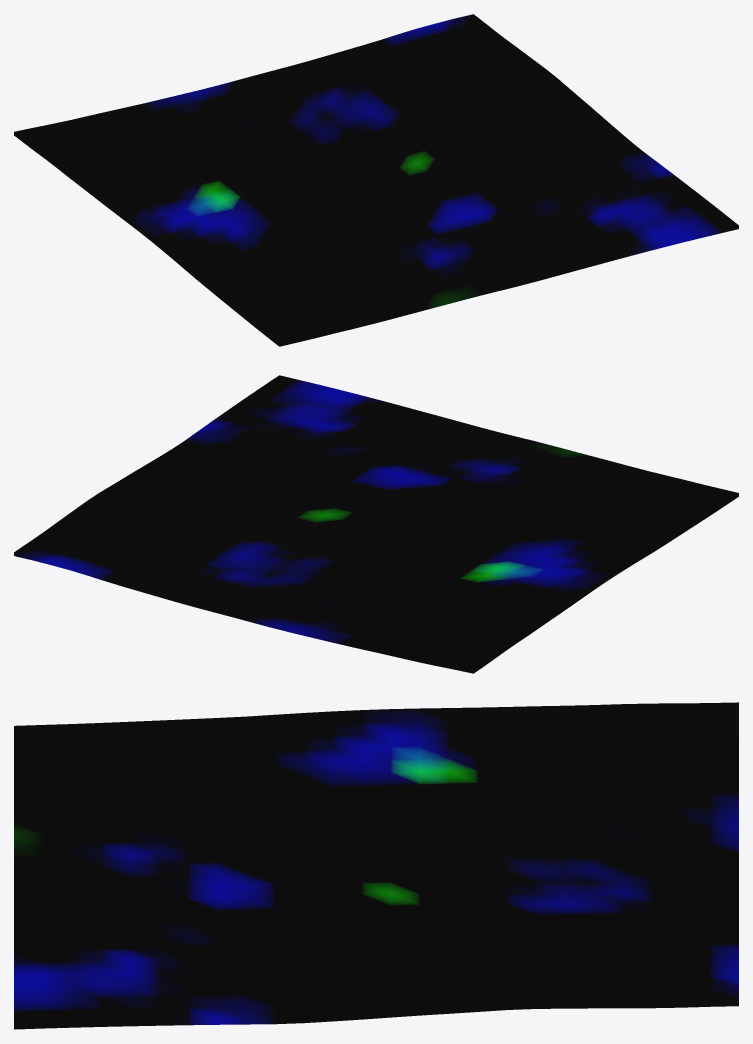
Rendered from coast_11_5.glb.
The picture shows the model from 3 angles, top to bottom: view 1: azimuth 30°, elevation 25°; view 2: azimuth 150°, elevation 25°; view 3: azimuth 270°, elevation 25°; orthographic projection. The views are drawn at different scales.
Parts seen in each view (by area): view 1: terrain; view 2: terrain; view 3: terrain.
Part boxes in pixels (x1=…): terrain: x1=14, y1=14, x2=738, y2=346; terrain: x1=14, y1=375, x2=738, y2=673; terrain: x1=14, y1=702, x2=738, y2=1029.
Size of the model in its own units: 200 by 11.13 by 200.
